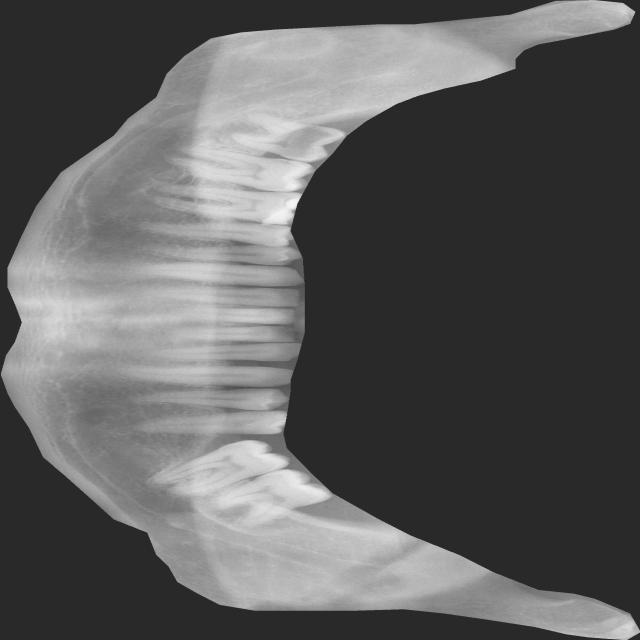mandibula: (0, 0, 640, 640)
